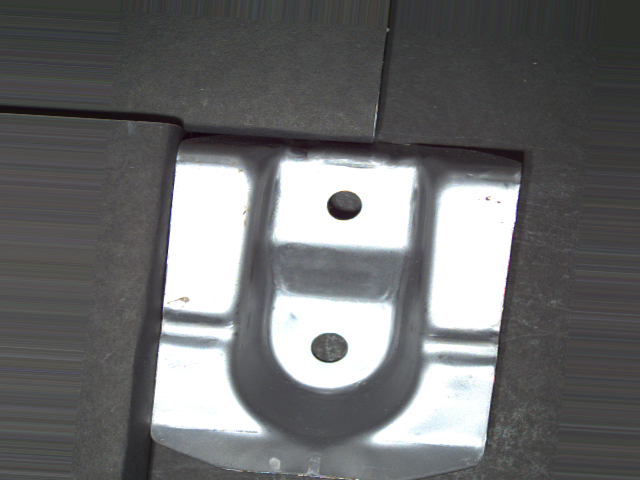defect: (308, 327, 353, 365)
